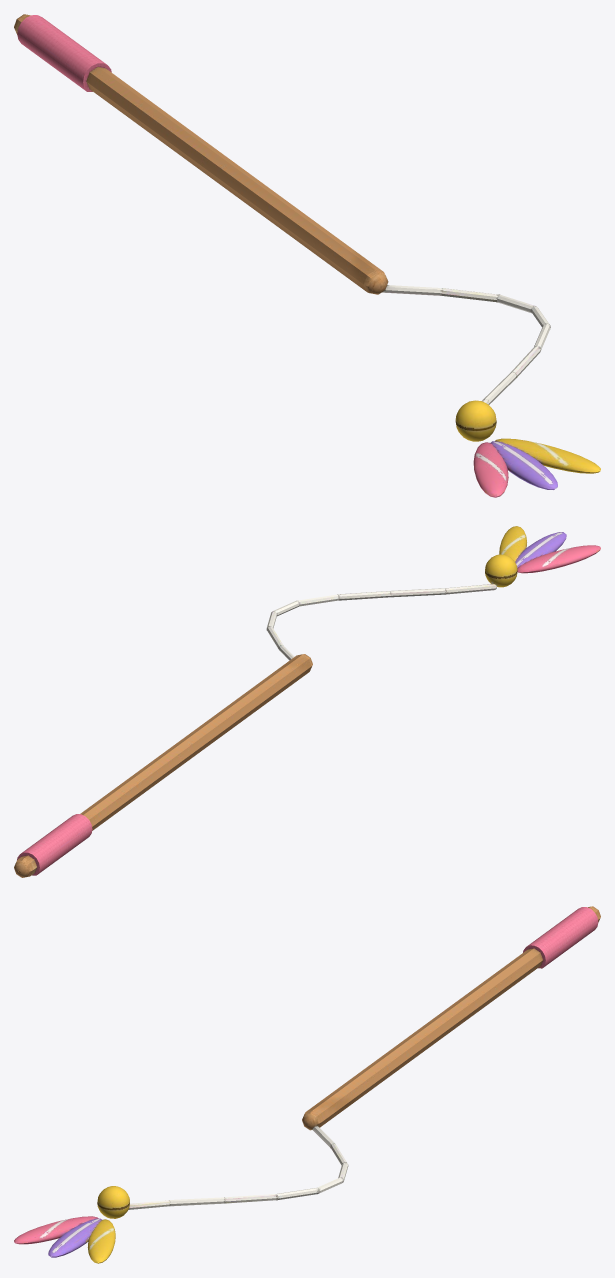
Rendered from wand_toy.glb.
3 views of the same model, one above another, from view 1: azimuth 30°, elevation 25°; view 2: azimuth 150°, elevation 25°; view 3: azimuth 330°, elevation 25° (orthographic). The views are drawn at different scales.
Visible parts, largest first — view 1: wand_toy; view 2: wand_toy; view 3: wand_toy.
Part boxes in pixels (box(x1,y1,x2,y2)): wand_toy: box(14, 14, 600, 497); wand_toy: box(14, 526, 600, 877); wand_toy: box(14, 906, 600, 1263).
Size of the model in its own units: 0.2264 by 0.0352 by 1.04.
Materials: 1 (1 with a texture image).
